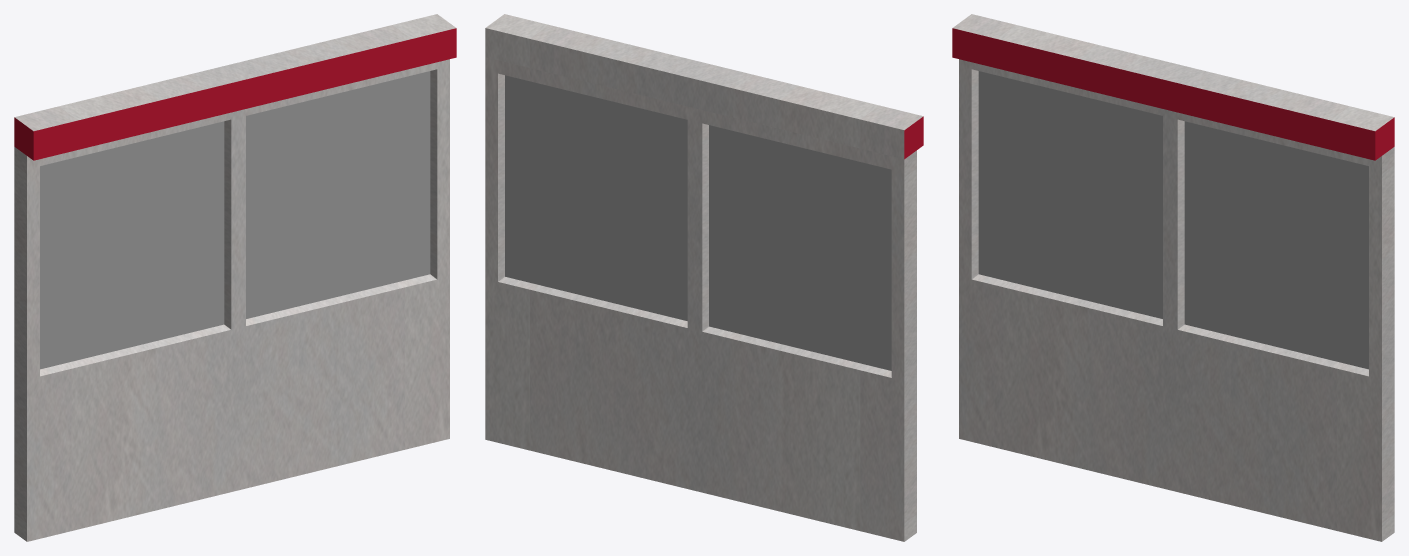
The model's file is wall_Window.fbx.
3 renders of one model, left to right at view 1: azimuth 30°, elevation 25°; view 2: azimuth 150°, elevation 25°; view 3: azimuth 330°, elevation 25°, orthographic.
Parts seen in each view (by area): view 1: wall_window, window; view 2: wall_window, window; view 3: wall_window, window.
Boxes of the visible parts, box(x1,y1,x2,y2) form: wall_window: box(14, 14, 456, 541); window: box(40, 71, 430, 369); wall_window: box(485, 14, 923, 541); window: box(505, 75, 891, 370); wall_window: box(952, 14, 1394, 541); window: box(978, 71, 1368, 369).
Size of the model in its own units: 340 by 319 by 26.87.
